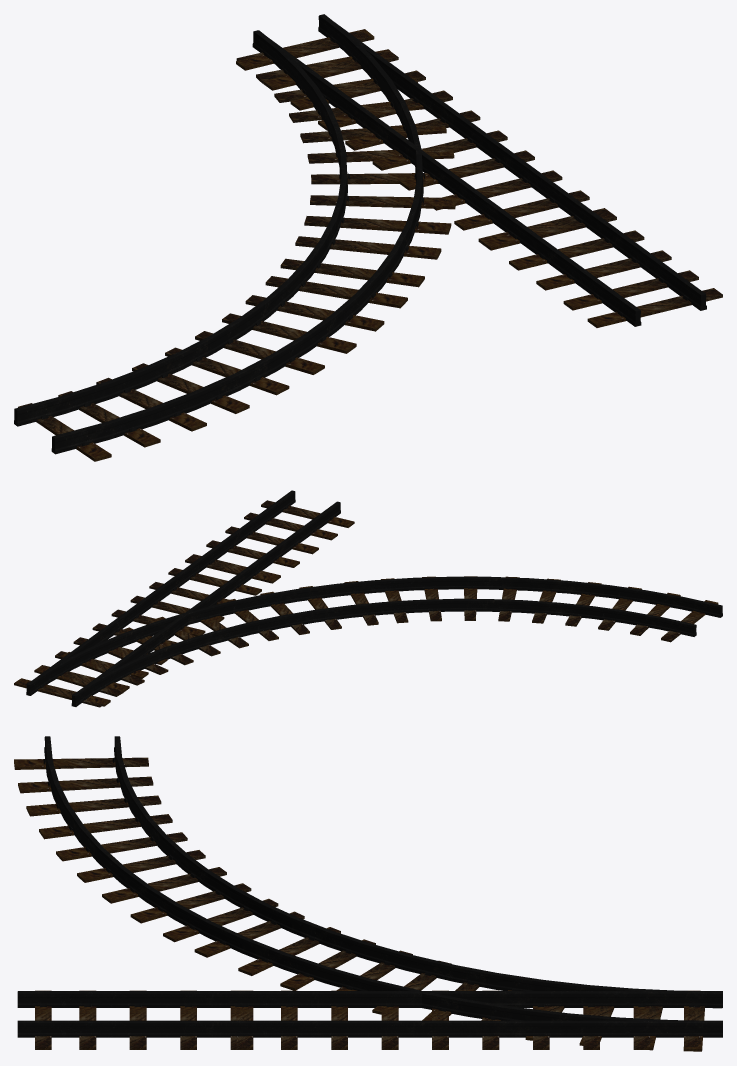
File: track6.gltf
3 renders of one model, top to bottom at view 1: azimuth 30°, elevation 25°; view 2: azimuth 150°, elevation 25°; view 3: azimuth 270°, elevation 25°, orthographic. The views are drawn at different scales.
Visible parts, largest first — view 1: Track_01polySurface161_lambert1_0.005, Track_01polySurface161_lambert1_0.006, Track_01polySurface161_lambert1_0.001; view 2: Track_01polySurface161_lambert1_0.005, Track_01polySurface161_lambert1_0.006, Track_01polySurface161_lambert1_0.001; view 3: Track_01polySurface161_lambert1_0.005, Track_01polySurface161_lambert1_0.001, Track_01polySurface161_lambert1_0.006.
Part boxes in pixels (x1,y1,x2,y2): Track_01polySurface161_lambert1_0.005: (14,14,455,461); Track_01polySurface161_lambert1_0.006: (348,94,722,327); Track_01polySurface161_lambert1_0.001: (236,14,613,244); Track_01polySurface161_lambert1_0.005: (14,576,722,707); Track_01polySurface161_lambert1_0.006: (93,490,354,648); Track_01polySurface161_lambert1_0.001: (18,546,278,706); Track_01polySurface161_lambert1_0.005: (14,736,722,1051); Track_01polySurface161_lambert1_0.001: (219,990,722,1049); Track_01polySurface161_lambert1_0.006: (17,990,520,1049).
Size of the model in its own units: 211 by 5.12 by 211.
Materials: 1 (1 with a texture image).
